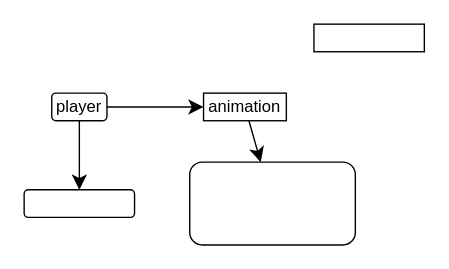
Some shapes in this 449 by 269 pixel diagram are drawn without their labels. The box of each missing label's shape, as (x1, y1, x2, y2) in pixels:
有限 状态机: (23, 188, 135, 217)
游戏架构逻辑: (313, 23, 424, 52)
